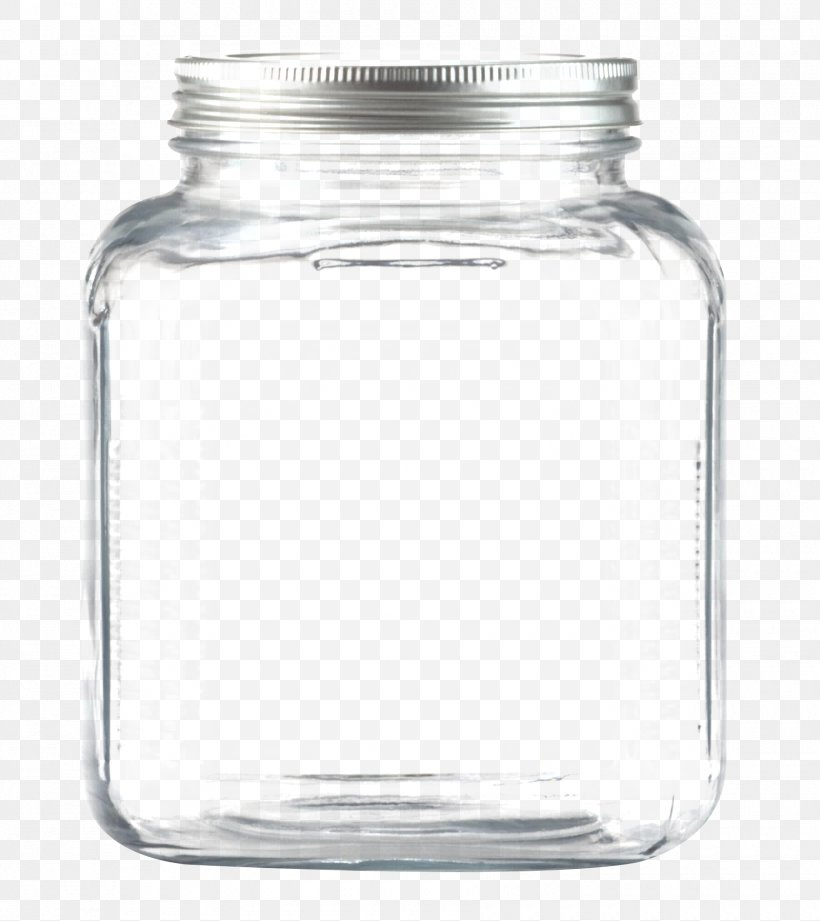glass_bottle: (74, 30, 758, 884)
